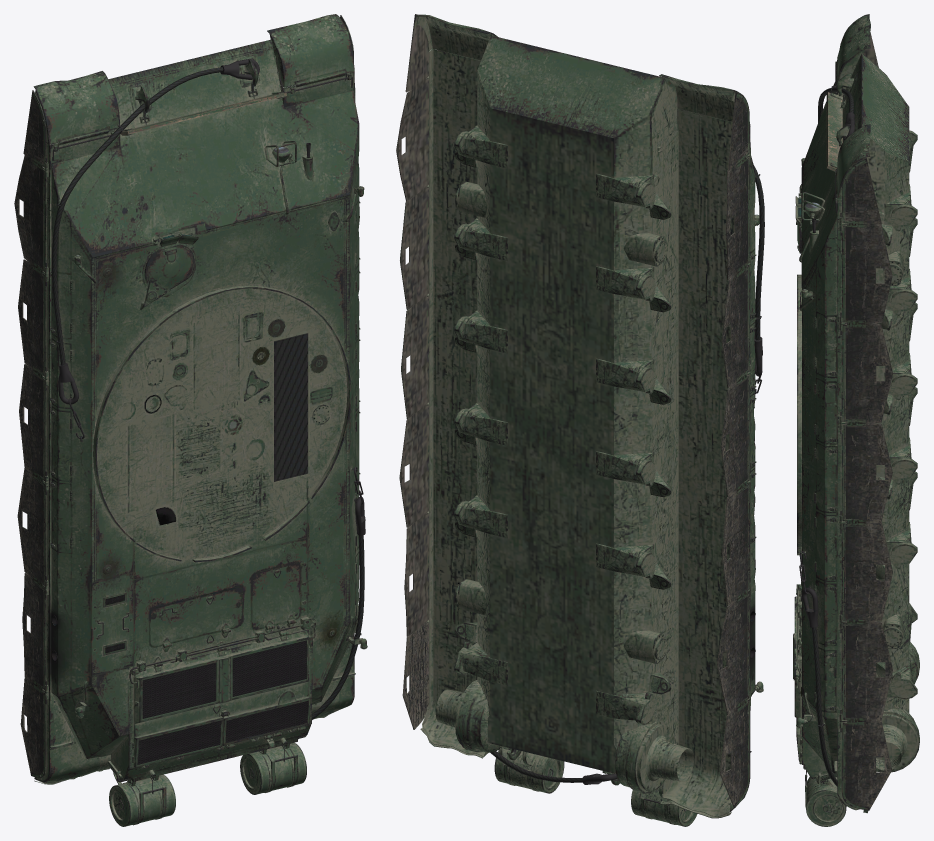
The model's file is Hull.glb.
3 renders of one model, left to right at view 1: azimuth 30°, elevation 25°; view 2: azimuth 150°, elevation 25°; view 3: azimuth 270°, elevation 25°, orthographic. The views are drawn at different scales.
Visible parts, largest first — view 1: set_0_group_0; view 2: set_0_group_0; view 3: set_0_group_0.
Part boxes in pixels (bbox=[...]): set_0_group_0: bbox=[14, 14, 367, 826]; set_0_group_0: bbox=[396, 14, 764, 826]; set_0_group_0: bbox=[793, 14, 919, 826].
Bounding box in the file's own units: 3.52 × 7.81 × 1.28.
Materials: 1 (1 with a texture image).
